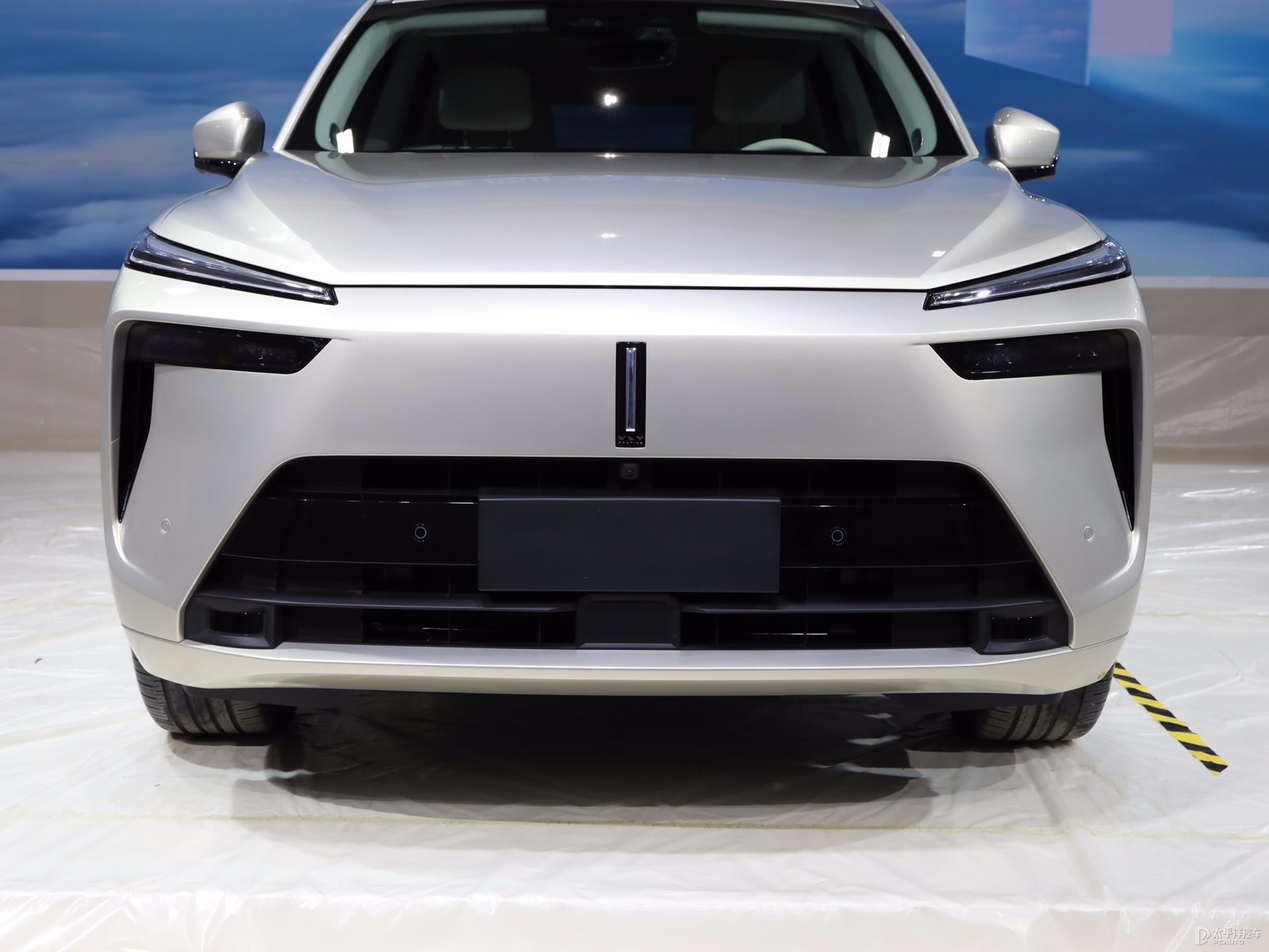WEY: (615, 341, 646, 447)
